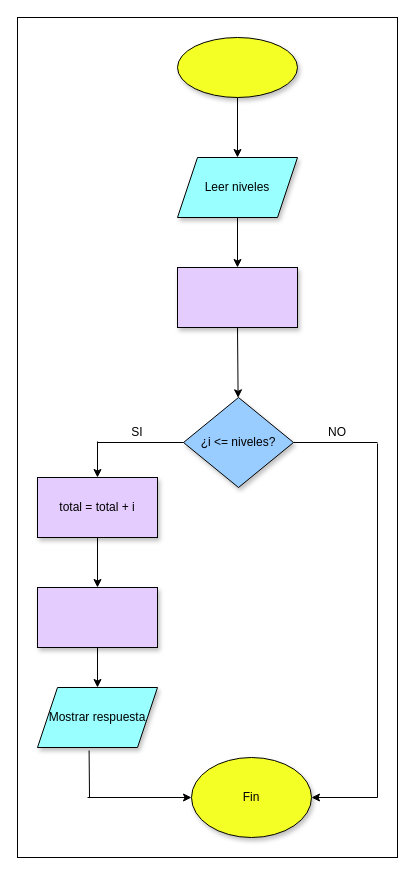
This 415x875 diagram has some shape labels left out. Here are the shapes that lost their labels. From the top down, the centre of each, then its label:
the point at 238,68: Inicio
the point at 238,298: Inicializar total = 0
the point at 98,618: i = i + 1
